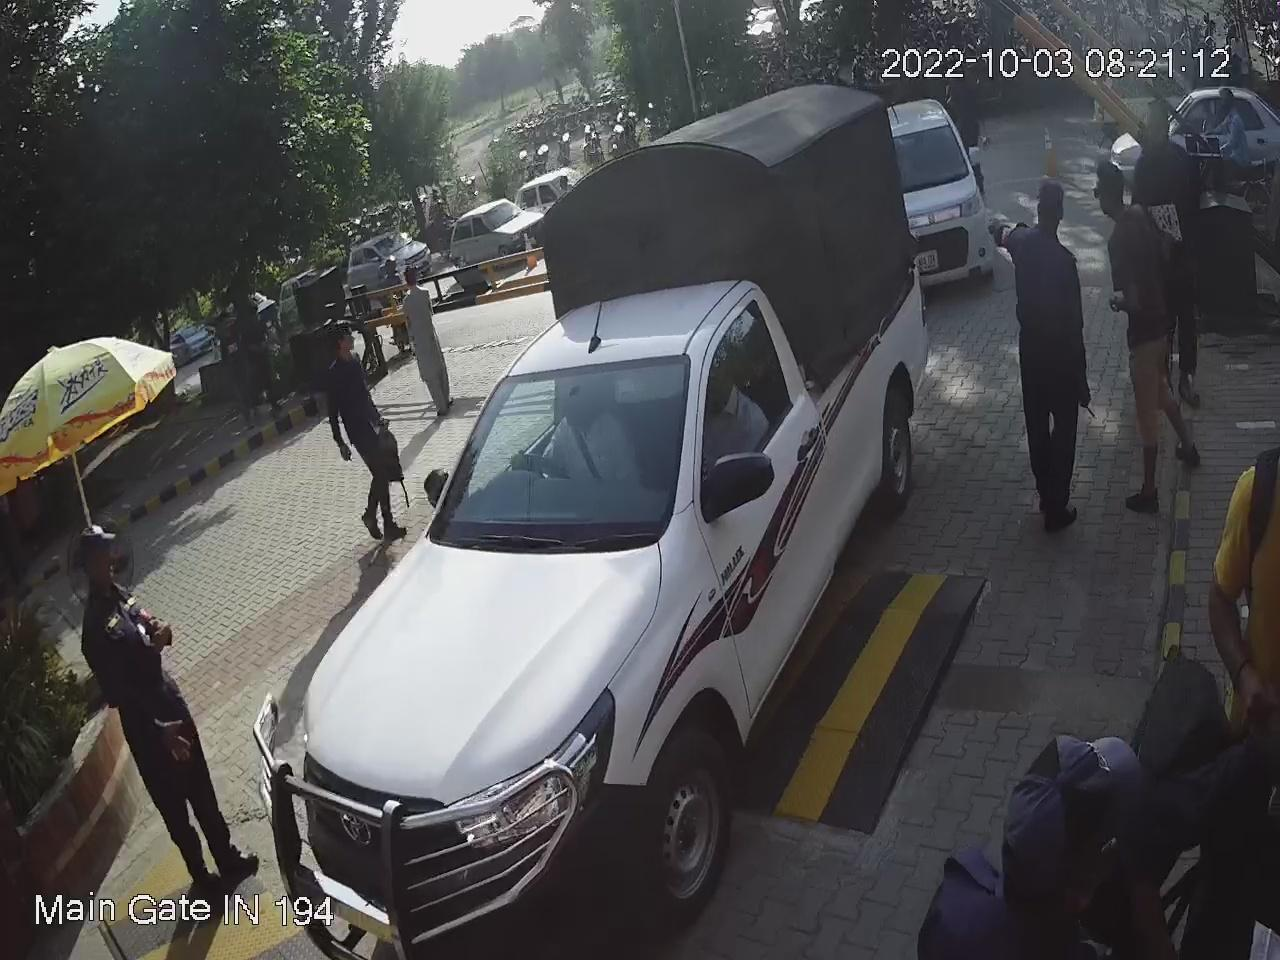windshield: (425, 345, 700, 555)
